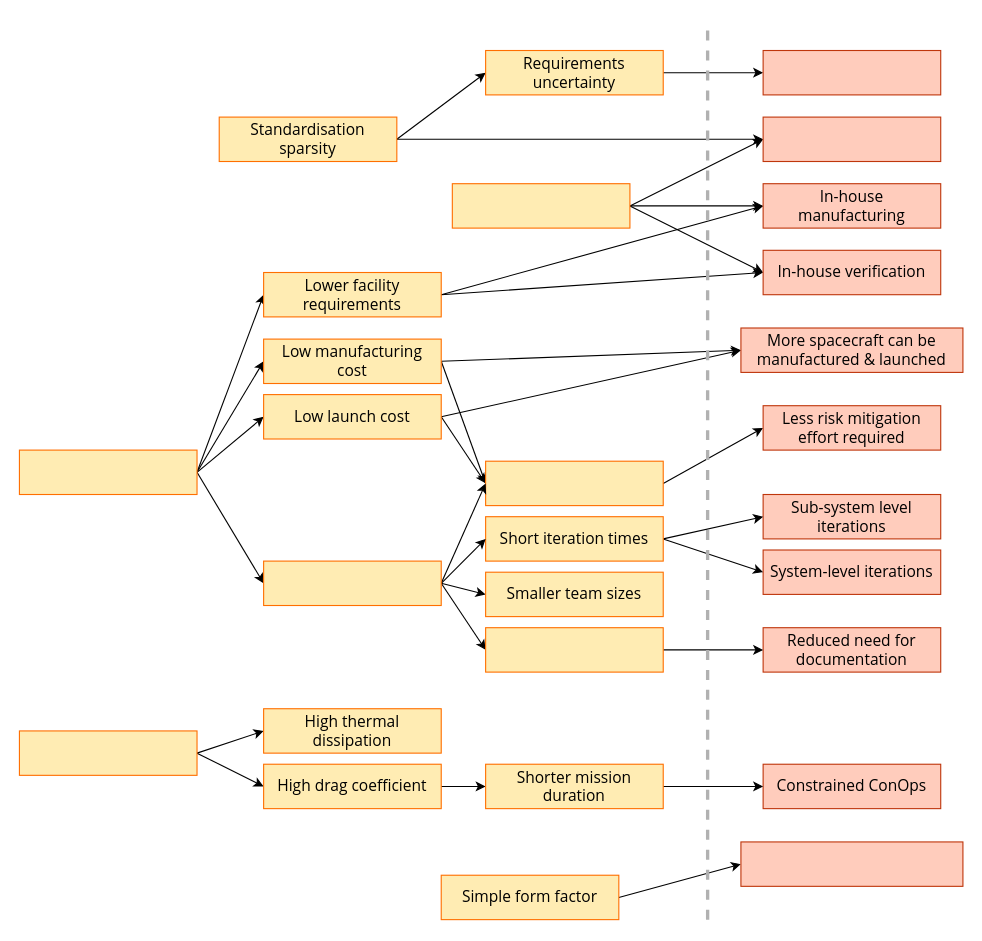
The diagram is 982 pixels wide and 941 high, and some of its shapes have lost their labels. The centre of each missing label's shape, as x and y in pixels:
Different tradespace: pixel 851 139
Higher risk acceptance: pixel 574 483
Low mass & size: pixel 107 472
Low mass / area ratio: pixel 107 752
Lower COTS availability: pixel 540 205
Lower project complexity: pixel 574 649
Need for flexibility to specification changes: pixel 851 72
Reduced project scope: pixel 352 583
Understood mechanical and electrical characteristics: pixel 851 863
